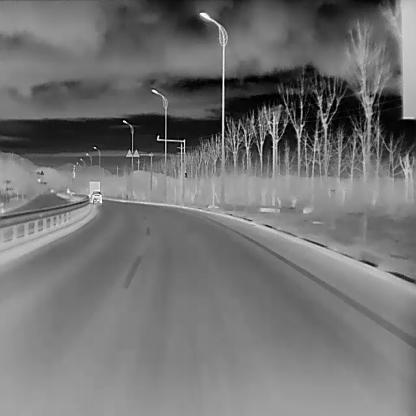car: (90, 190, 102, 203)
truck: (88, 180, 100, 198)
